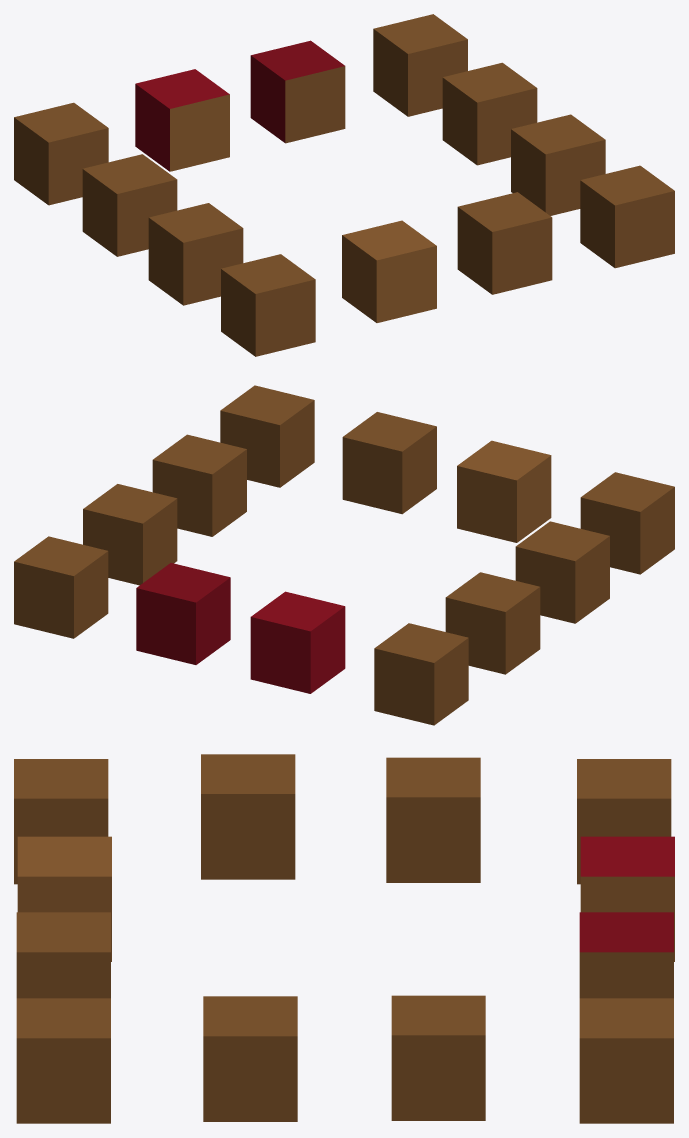
The model's file is BasicHouse0.fbx.
3 renders of one model, top to bottom at view 1: azimuth 30°, elevation 25°; view 2: azimuth 150°, elevation 25°; view 3: azimuth 270°, elevation 25°, orthographic. The views are drawn at different scales.
Visible parts, largest first — view 1: Cube.006, Cube.011, Cube.013, Cube.007, Cube.002, Cube, Cube.001, Cube.004, Cube.010, Cube.012, Cube.008, Cube.005; view 2: Cube.013, Cube.012, Cube.010, Cube, Cube.006, Cube.011, Cube.008, Cube.001, Cube.005, Cube.004, Cube.002, Cube.007; view 3: Cube.012, Cube.008, Cube.005, Cube.002, Cube.001, Cube.004, Cube.011, Cube.006, Cube.010, Cube.007, Cube.013, Cube.
Boxes of the visible parts, x1,y1,x2,y2 form: Cube.006: (457, 192, 552, 294); Cube.011: (250, 40, 345, 143); Cube.013: (135, 69, 229, 171); Cube.007: (221, 254, 315, 356); Cube.002: (580, 165, 674, 268); Cube: (342, 220, 436, 322); Cube.001: (148, 203, 243, 305); Cube.004: (442, 62, 537, 165); Cube.010: (14, 102, 108, 205); Cube.012: (373, 14, 467, 116); Cube.008: (82, 154, 177, 256); Cube.005: (511, 114, 605, 215); Cube.013: (250, 591, 345, 693); Cube.012: (14, 536, 108, 638); Cube.010: (374, 623, 468, 725); Cube: (457, 440, 551, 542); Cube.006: (342, 412, 436, 514); Cube.011: (136, 563, 230, 664); Cube.008: (445, 572, 540, 674); Cube.001: (515, 521, 609, 623); Cube.005: (152, 434, 246, 536); Cube.004: (83, 484, 177, 585); Cube.002: (220, 385, 314, 487); Cube.007: (580, 472, 674, 574); Cube.012: (579, 998, 673, 1123); Cube.008: (386, 757, 480, 882); Cube.005: (203, 996, 297, 1121); Cube.002: (16, 998, 110, 1123); Cube.001: (201, 754, 295, 879); Cube.004: (391, 995, 485, 1120); Cube.011: (579, 912, 673, 998); Cube.006: (16, 912, 110, 998); Cube.010: (577, 759, 671, 884); Cube.007: (14, 759, 108, 884); Cube.013: (580, 836, 674, 961); Cube: (17, 836, 111, 961).
Size of the model in its own units: 1412 by 211 by 1401.
